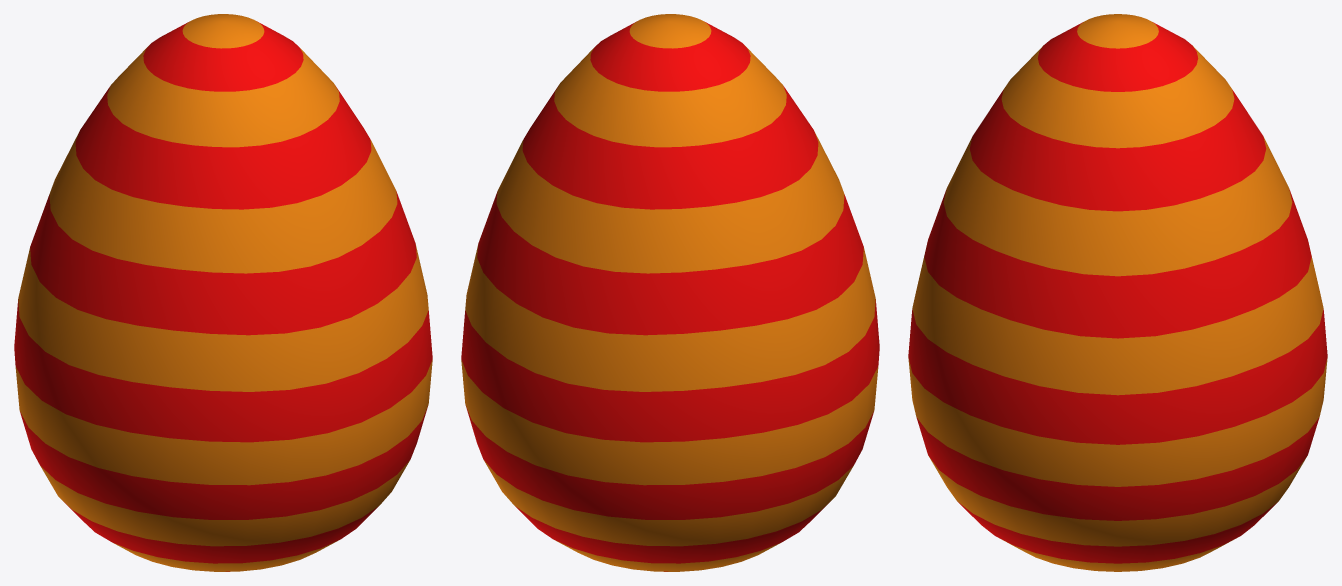
File: Egg_Striped.FBX
3 views of the same model, side by side, from view 1: azimuth 30°, elevation 25°; view 2: azimuth 150°, elevation 25°; view 3: azimuth 270°, elevation 25° (orthographic).
Parts seen in each view (by area): view 1: Sphere003; view 2: Sphere003; view 3: Sphere003.
Boxes of the visible parts, x1,y1,x2,y2 form: Sphere003: (14, 14, 432, 571); Sphere003: (461, 14, 879, 571); Sphere003: (908, 14, 1327, 571).
Bounding box in the file's own units: 56.03 × 56.03 × 77.86.
